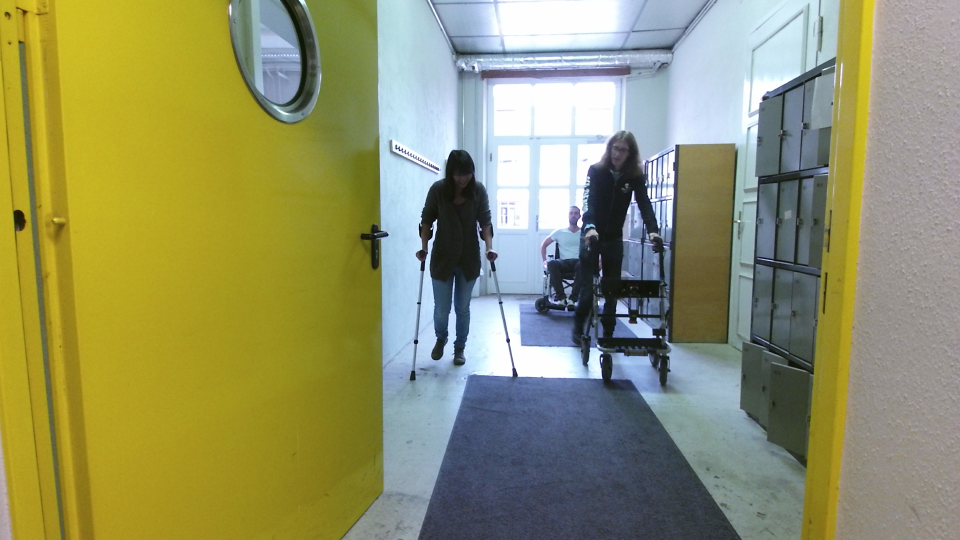crutches: (398, 156, 520, 387)
wheelchair: (531, 203, 595, 318)
